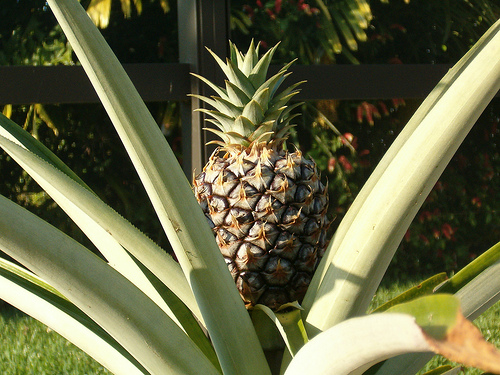pineapple: (185, 36, 332, 306)
